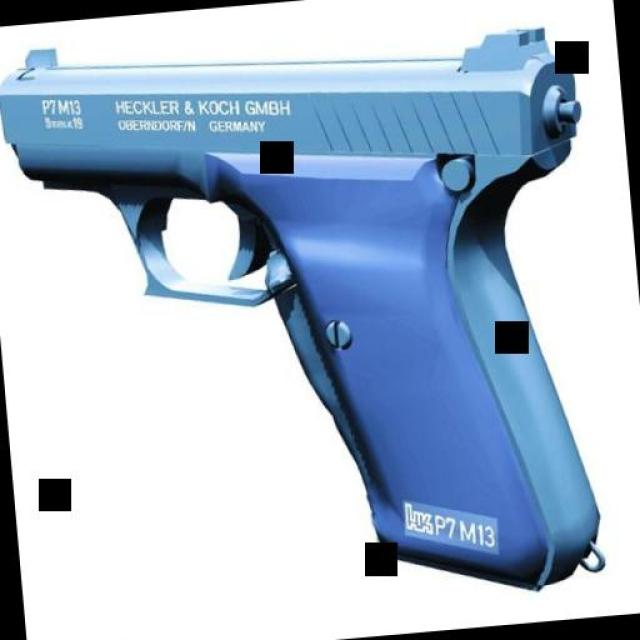gun: (0, 0, 624, 631)
